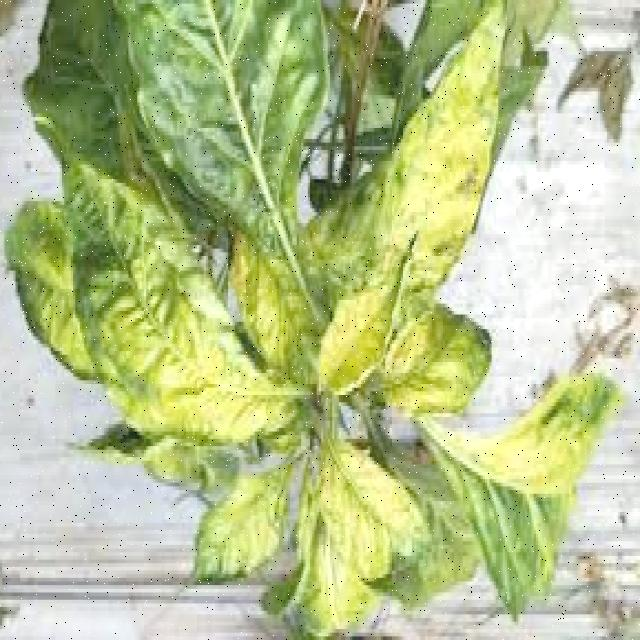leaf curl: (30, 5, 594, 637)
